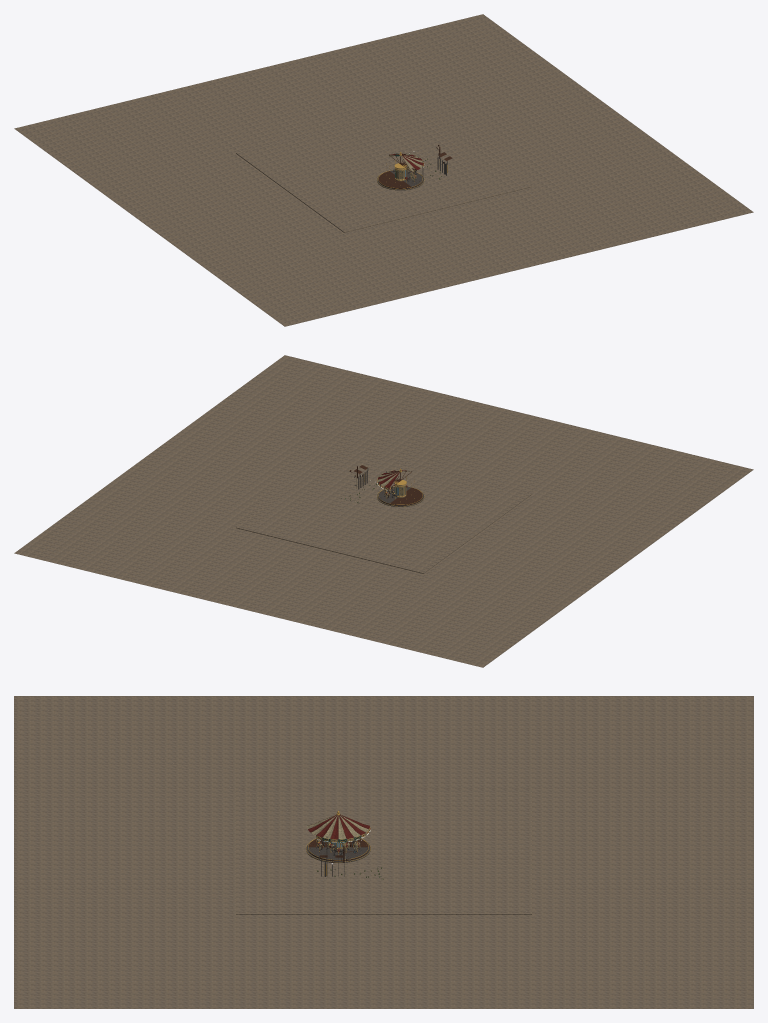
The model's file is SM_Env_Tile_p0_p0.fbx.
3 renders of one model, top to bottom at view 1: azimuth 30°, elevation 25°; view 2: azimuth 150°, elevation 25°; view 3: azimuth 270°, elevation 25°, orthographic. The views are drawn at different scales.
Parts seen in each view (by area): view 1: SM_Env_Tile_p0_p0; view 2: SM_Env_Tile_p0_p0; view 3: SM_Env_Tile_p0_p0.
Boxes of the visible parts, bbox=[...] form: SM_Env_Tile_p0_p0: bbox=[14, 14, 753, 326]; SM_Env_Tile_p0_p0: bbox=[14, 355, 753, 667]; SM_Env_Tile_p0_p0: bbox=[14, 696, 753, 1008].
Size of what is drawn, in the model's own units: 13000 by 13000 by 822.
Materials: 20 (12 with a texture image).
